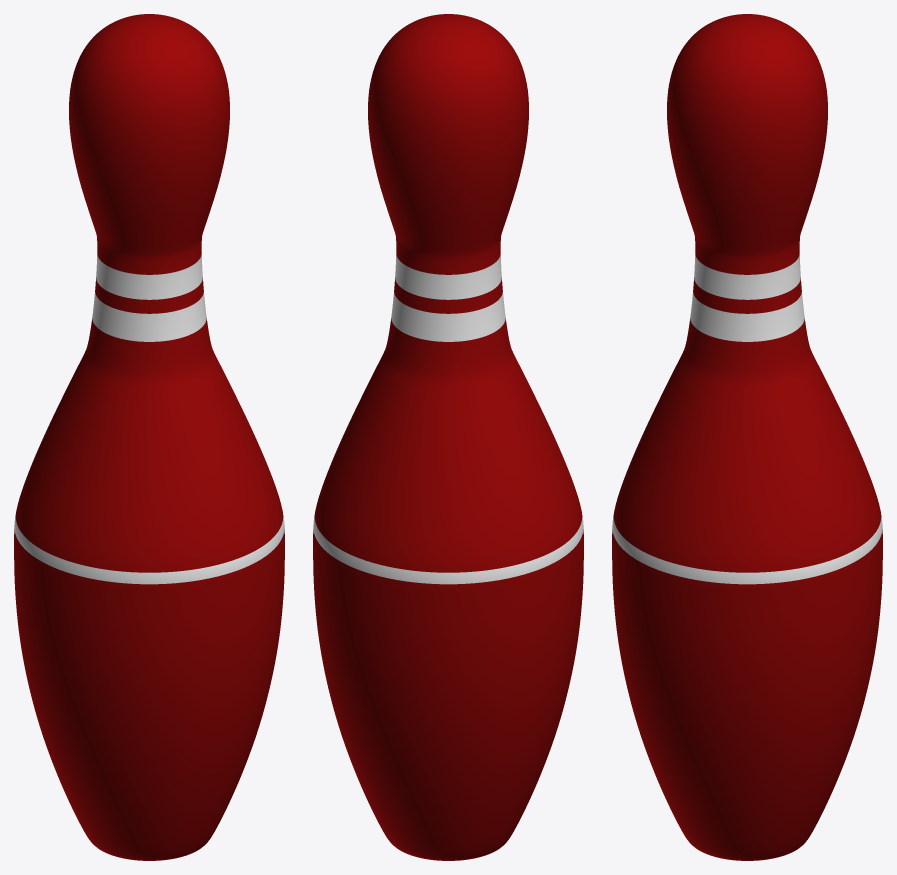
The picture shows the model from 3 angles, left to right: view 1: azimuth 30°, elevation 25°; view 2: azimuth 150°, elevation 25°; view 3: azimuth 270°, elevation 25°; orthographic projection.
Parts seen in each view (by area): view 1: Pin; view 2: Pin; view 3: Pin.
Boxes of the visible parts, <box> form: Pin: <box>14,14,284,860</box>; Pin: <box>313,14,583,860</box>; Pin: <box>612,14,882,860</box>.
Size of the model in its own units: 11.45 by 38 by 11.45.
